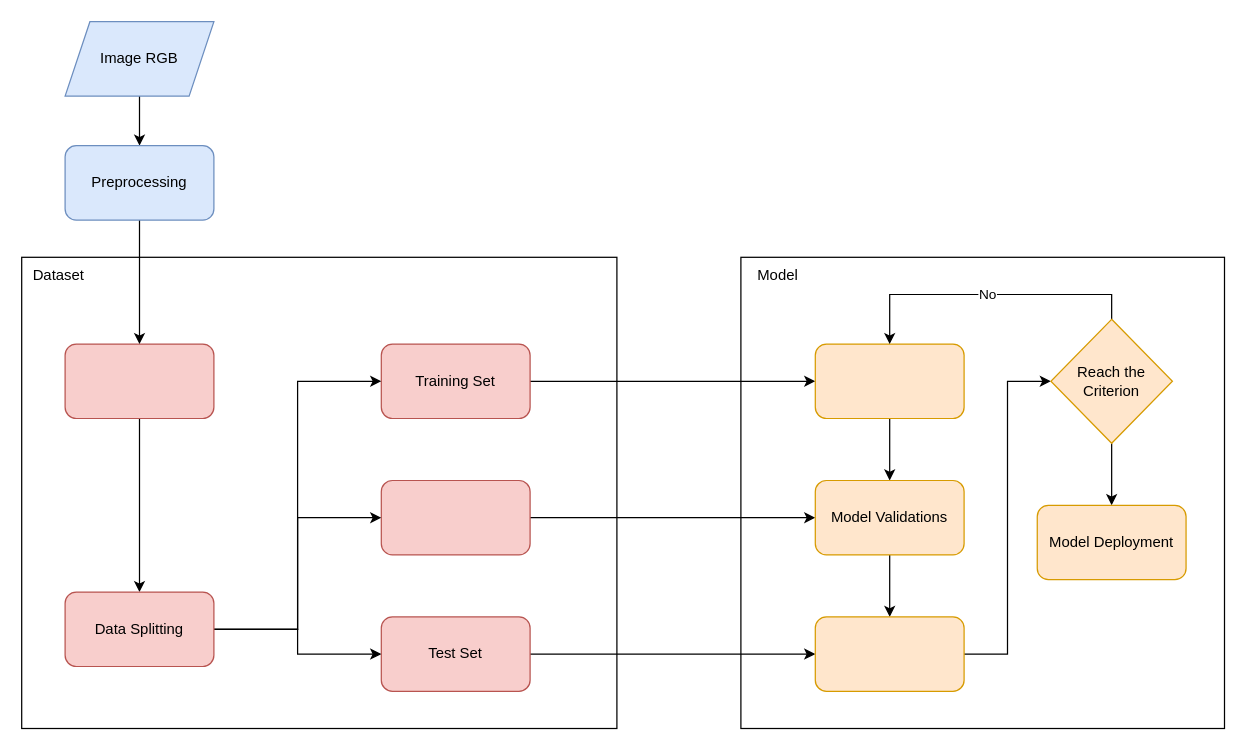
Image size: 1246x750. Some labels were removed from this diagram. The box of each missing label's shape, as (x1, y1, x2, y2) in pixels:
Generate dataset using SAM: (64, 343, 214, 418)
Model Evaluations: (814, 616, 964, 691)
Training MaksRCNN Model: (814, 343, 964, 418)
Validation Set: (380, 479, 530, 555)
